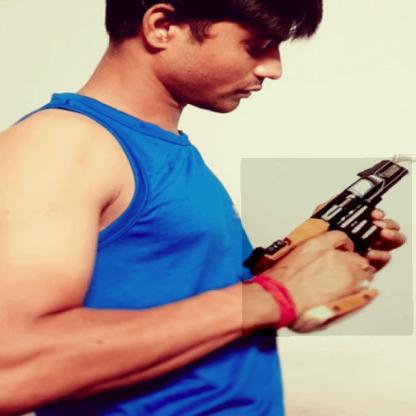handgun: (241, 157, 413, 336)
